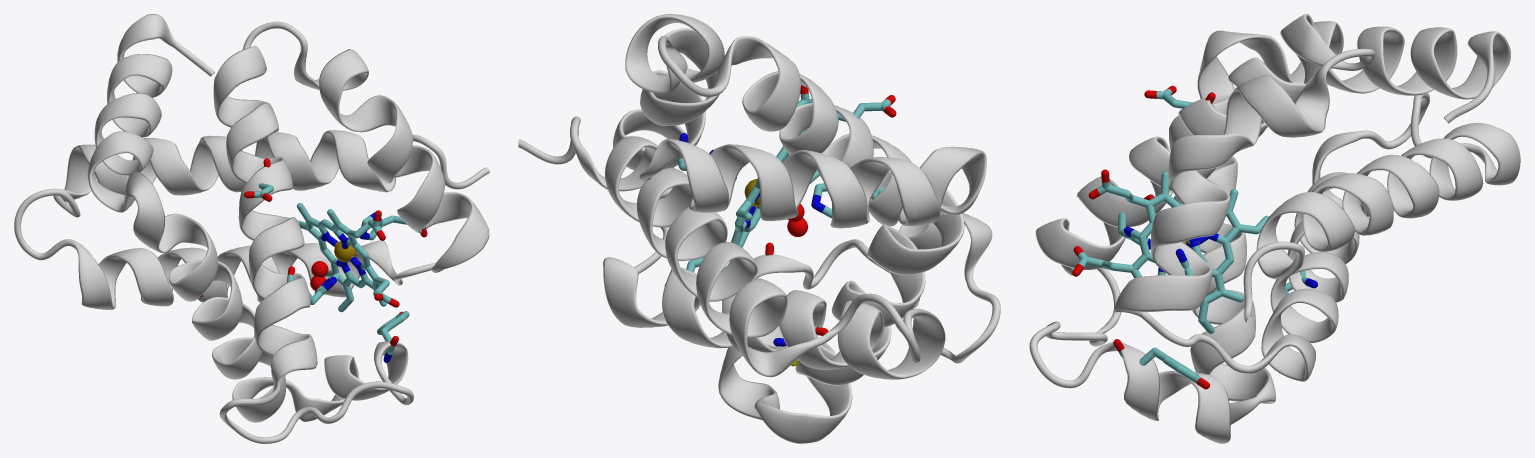
File: frame16.gltf
3 renders of one model, left to right at view 1: azimuth 30°, elevation 25°; view 2: azimuth 150°, elevation 25°; view 3: azimuth 270°, elevation 25°, orthographic. The views are drawn at different scales.
Parts seen in each view (by area): view 1: vmd_mol16_rep3, vmd_mol16_rep2, vmd_mol16_rep1; view 2: vmd_mol16_rep3, vmd_mol16_rep1, vmd_mol16_rep2; view 3: vmd_mol16_rep3, vmd_mol16_rep2, vmd_mol16_rep1.
Boxes of the visible parts, x1=… form: vmd_mol16_rep3: x1=14, y1=14, x2=489, y2=443; vmd_mol16_rep2: x1=285, y1=203, x2=399, y2=312; vmd_mol16_rep1: x1=199, y1=158, x2=427, y2=362; vmd_mol16_rep3: x1=518, y1=14, x2=1000, y2=443; vmd_mol16_rep1: x1=664, y1=95, x2=896, y2=366; vmd_mol16_rep2: x1=731, y1=85, x2=819, y2=247; vmd_mol16_rep3: x1=1029, y1=14, x2=1520, y2=443; vmd_mol16_rep2: x1=1072, y1=169, x2=1269, y2=333; vmd_mol16_rep1: x1=1113, y1=85, x2=1317, y2=389.
Bounding box in the file's own units: 1.41 × 1.18 × 1.29.
